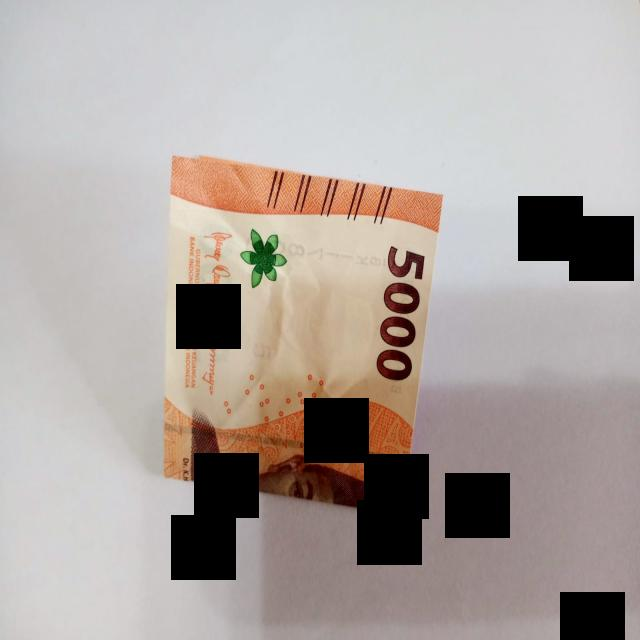lima ribu rupiah: (164, 157, 442, 513)
